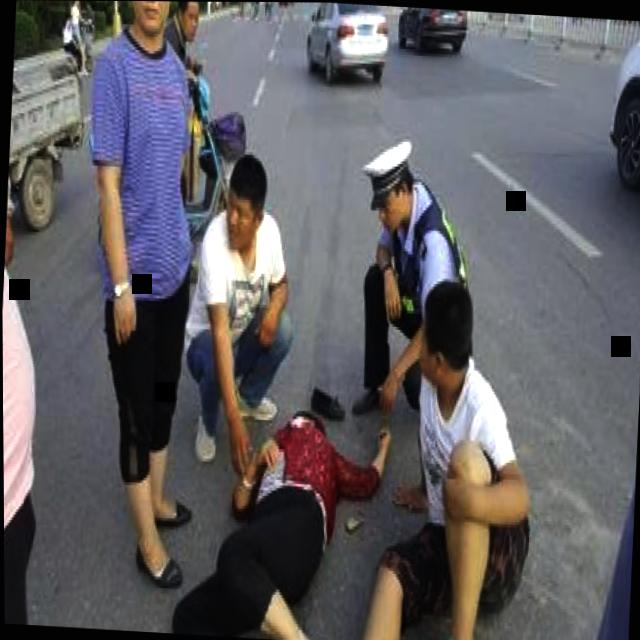Fall-Detected: (141, 374, 397, 640)
